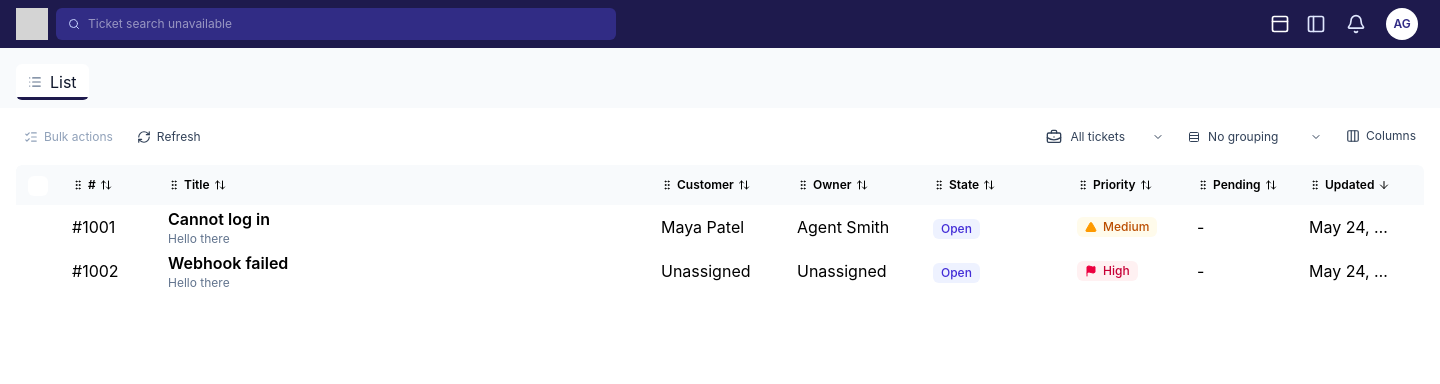
it: TicketWorkspace provider grouping › groups loaded tickets locally by provider-neutral values
This screenshot has width=1440, height=384.
Click the dropdown named "Group tickets by" at point(1255, 136), box [1180, 124, 1330, 148]
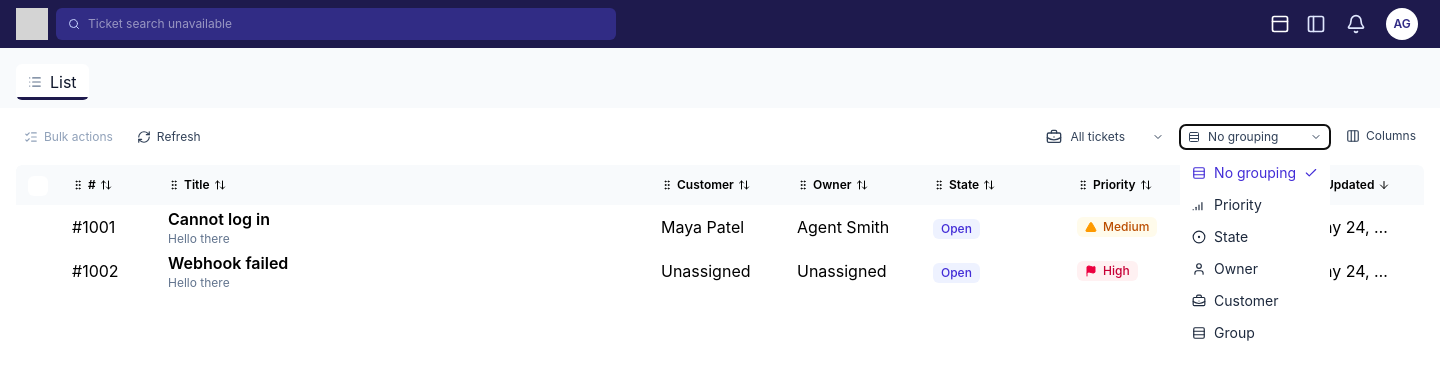
Click the option "Priority" at point(1255, 204), box [1184, 188, 1326, 220]
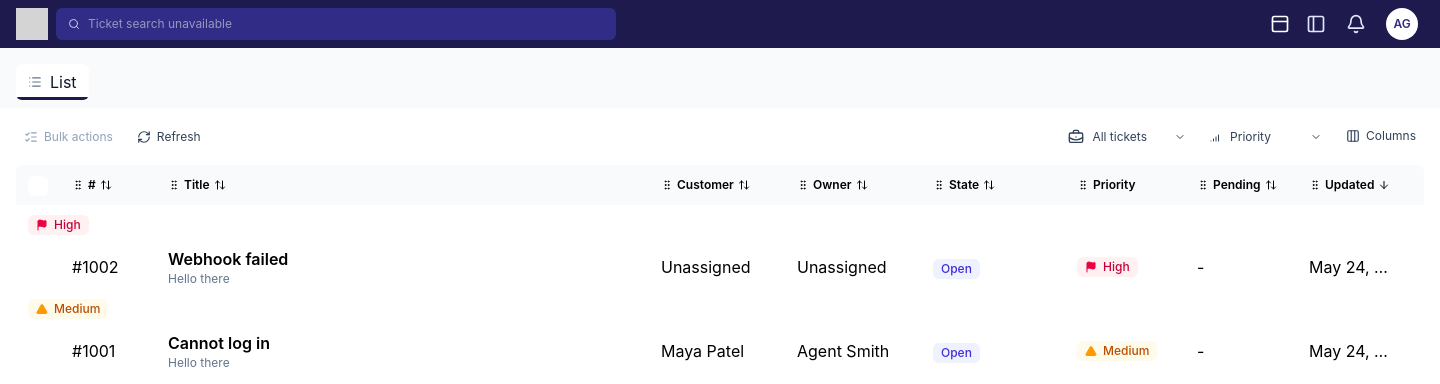
Check: the cell named "High group" is shown, box [16, 205, 1409, 245]
Check: the cell named "Medium group" is shown, box [16, 289, 1409, 329]
Click the dropdown named "Group tickets by" at point(1266, 136), box [1202, 124, 1330, 148]
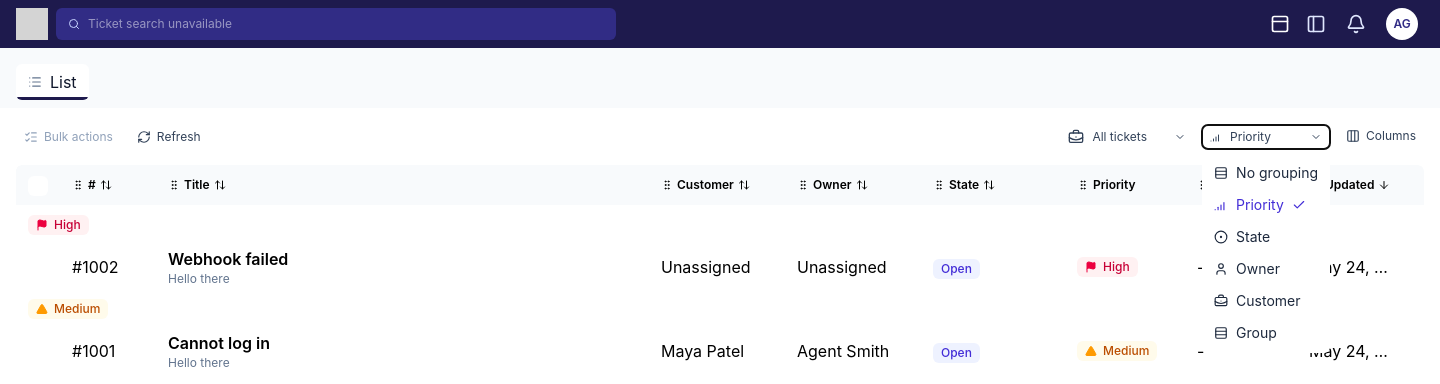
Click the option "Owner" at point(1266, 268), box [1206, 252, 1326, 284]
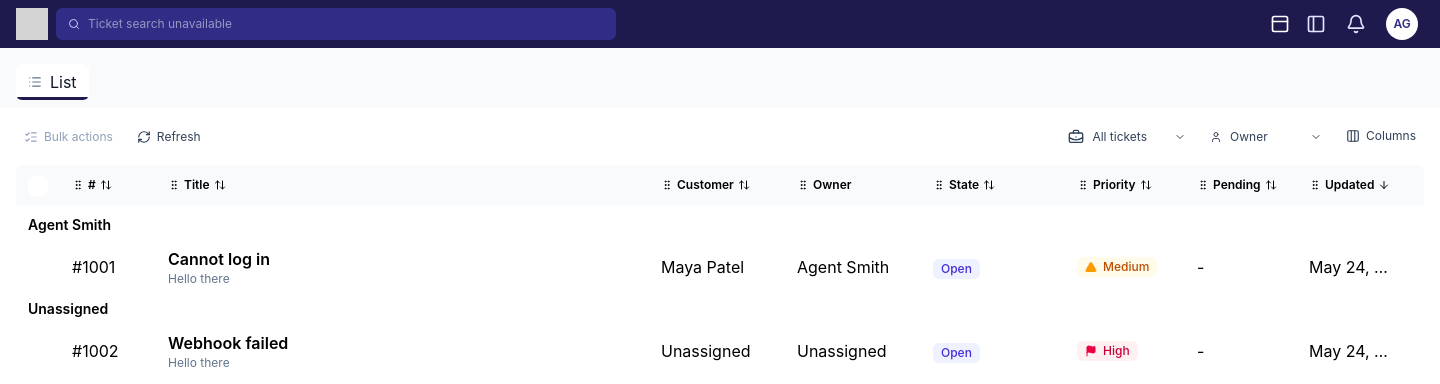
Check: the cell named "Agent Smith group" is shown, box [16, 205, 1409, 245]
Check: the cell named "Unassigned group" is shown, box [16, 289, 1409, 329]
